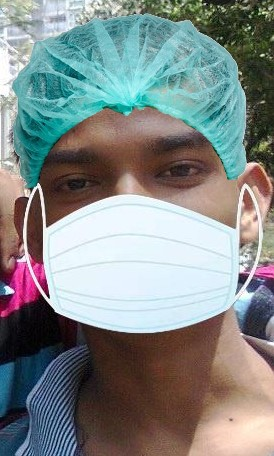with_mask_and_cap: (15, 15, 257, 330)
